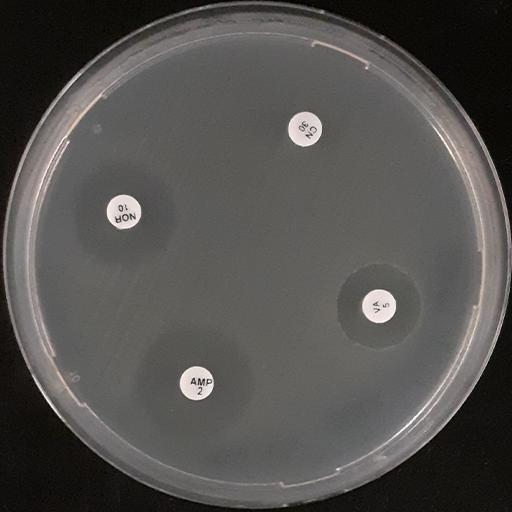disc: (180, 366, 214, 401), (362, 288, 396, 323), (107, 195, 141, 230), (288, 112, 322, 146)
